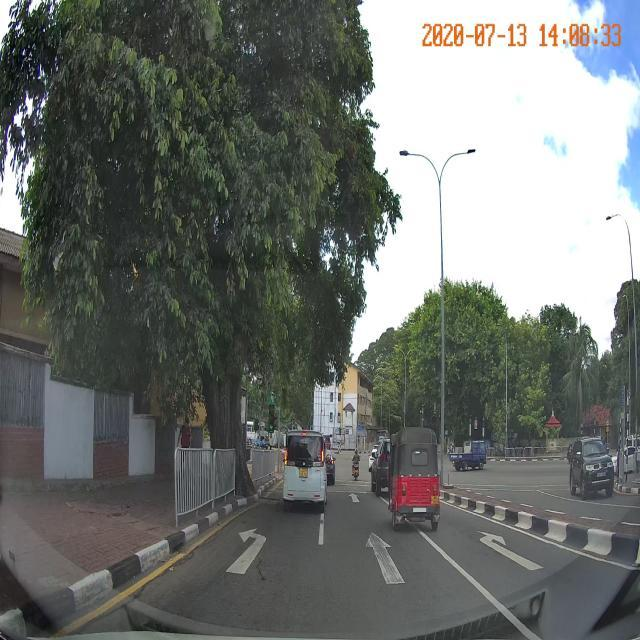forward: (318, 533, 470, 590)
right: (430, 520, 604, 598)
